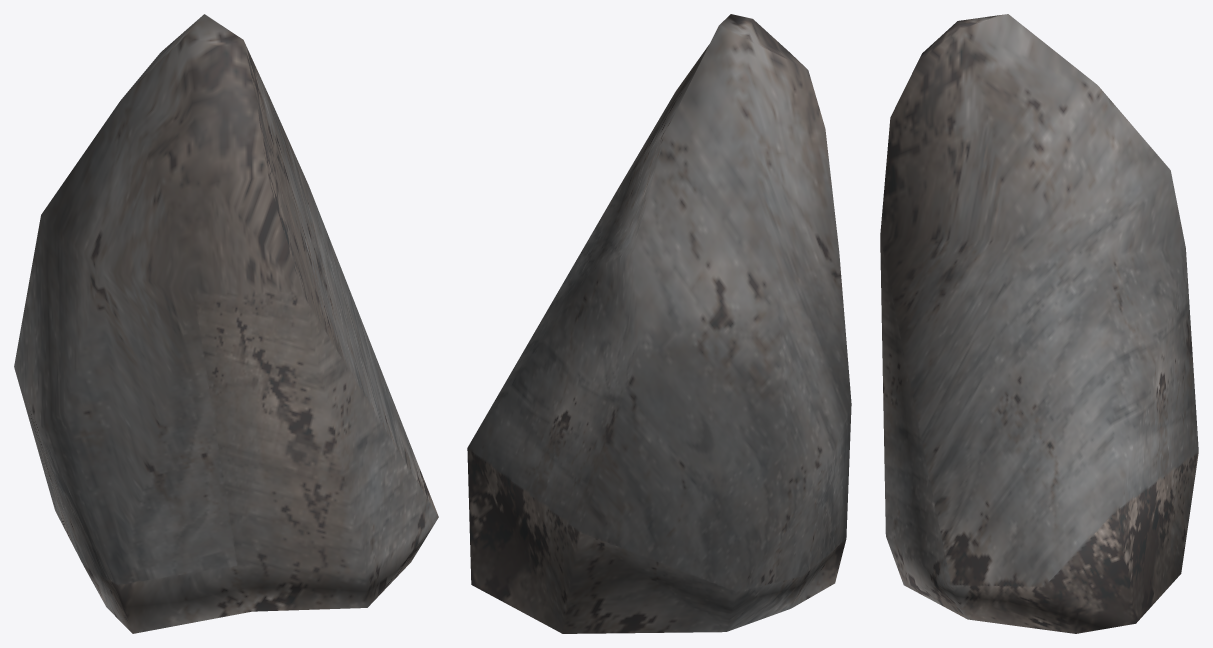
Rendered from stone14.fbx.
3 views of the same model, side by side, from view 1: azimuth 30°, elevation 25°; view 2: azimuth 150°, elevation 25°; view 3: azimuth 270°, elevation 25° (orthographic). The views are drawn at different scales.
Visible parts, largest first — view 1: polySurface12; view 2: polySurface12; view 3: polySurface12.
Boxes of the visible parts, bbox=[...] form: polySurface12: bbox=[14, 14, 438, 633]; polySurface12: bbox=[467, 14, 851, 633]; polySurface12: bbox=[880, 14, 1198, 633].
Size of the model in its own units: 1.05 by 1.61 by 0.8662.
1 material, 1 textured.
